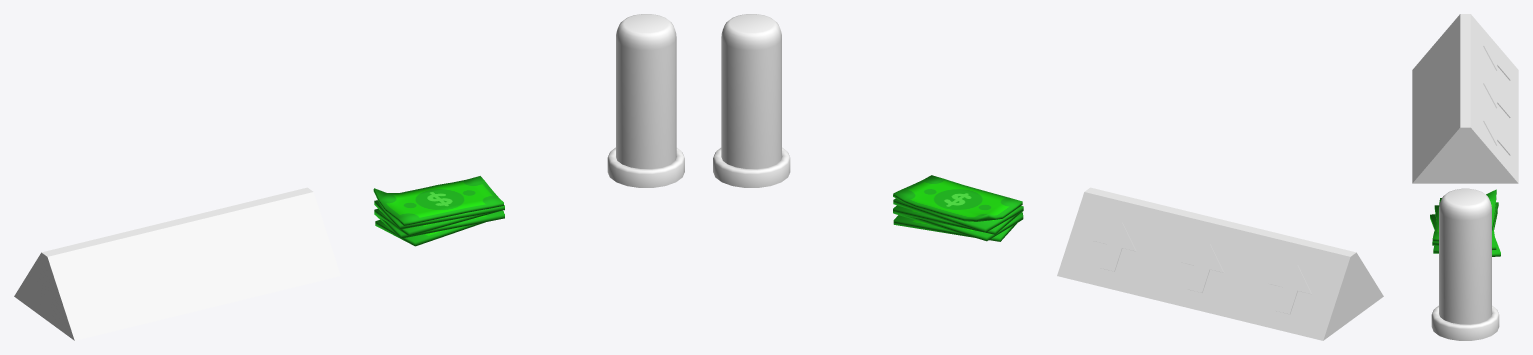
Rendered from Para Revize.fbx.
3 views of the same model, side by side, from view 1: azimuth 30°, elevation 25°; view 2: azimuth 150°, elevation 25°; view 3: azimuth 270°, elevation 25° (orthographic). The views are drawn at different scales.
Parts seen in each view (by area): view 1: Cube.020, obstacle.005, Cube.023, Cylinder.004; view 2: Cube.020, obstacle.005, Cube.023, Cylinder.004; view 3: Cube.020, obstacle.005, Cylinder.004, Cube.023.
Part boxes in pixels (bbox=[...]): Cube.020: bbox=[14, 187, 340, 340]; obstacle.005: bbox=[616, 14, 676, 168]; Cube.023: bbox=[373, 176, 504, 246]; Cylinder.004: bbox=[607, 147, 684, 187]; Cube.020: bbox=[1057, 187, 1383, 340]; obstacle.005: bbox=[721, 14, 781, 168]; Cube.023: bbox=[893, 175, 1023, 241]; Cylinder.004: bbox=[713, 147, 790, 187]; Cube.020: bbox=[1412, 14, 1518, 183]; obstacle.005: bbox=[1439, 188, 1491, 324]; Cylinder.004: bbox=[1431, 305, 1499, 340]; Cube.023: bbox=[1430, 189, 1500, 256].
Size of the model in its own units: 4.1 by 0.9402 by 0.68.
